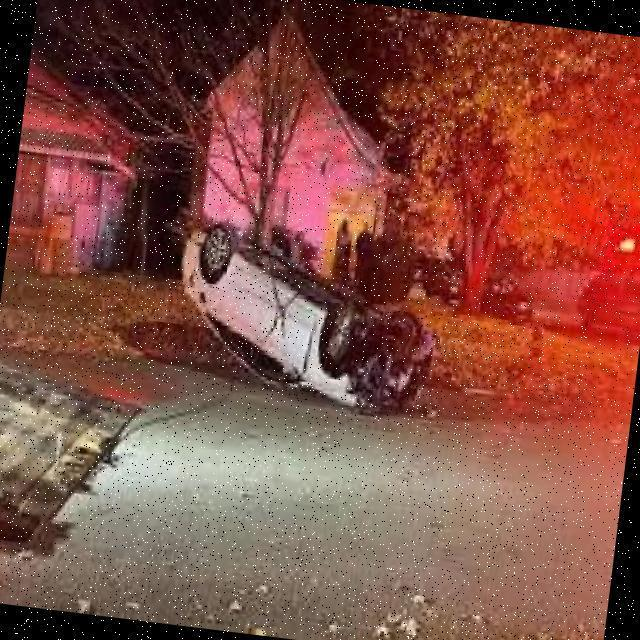accident: (157, 187, 450, 437)
